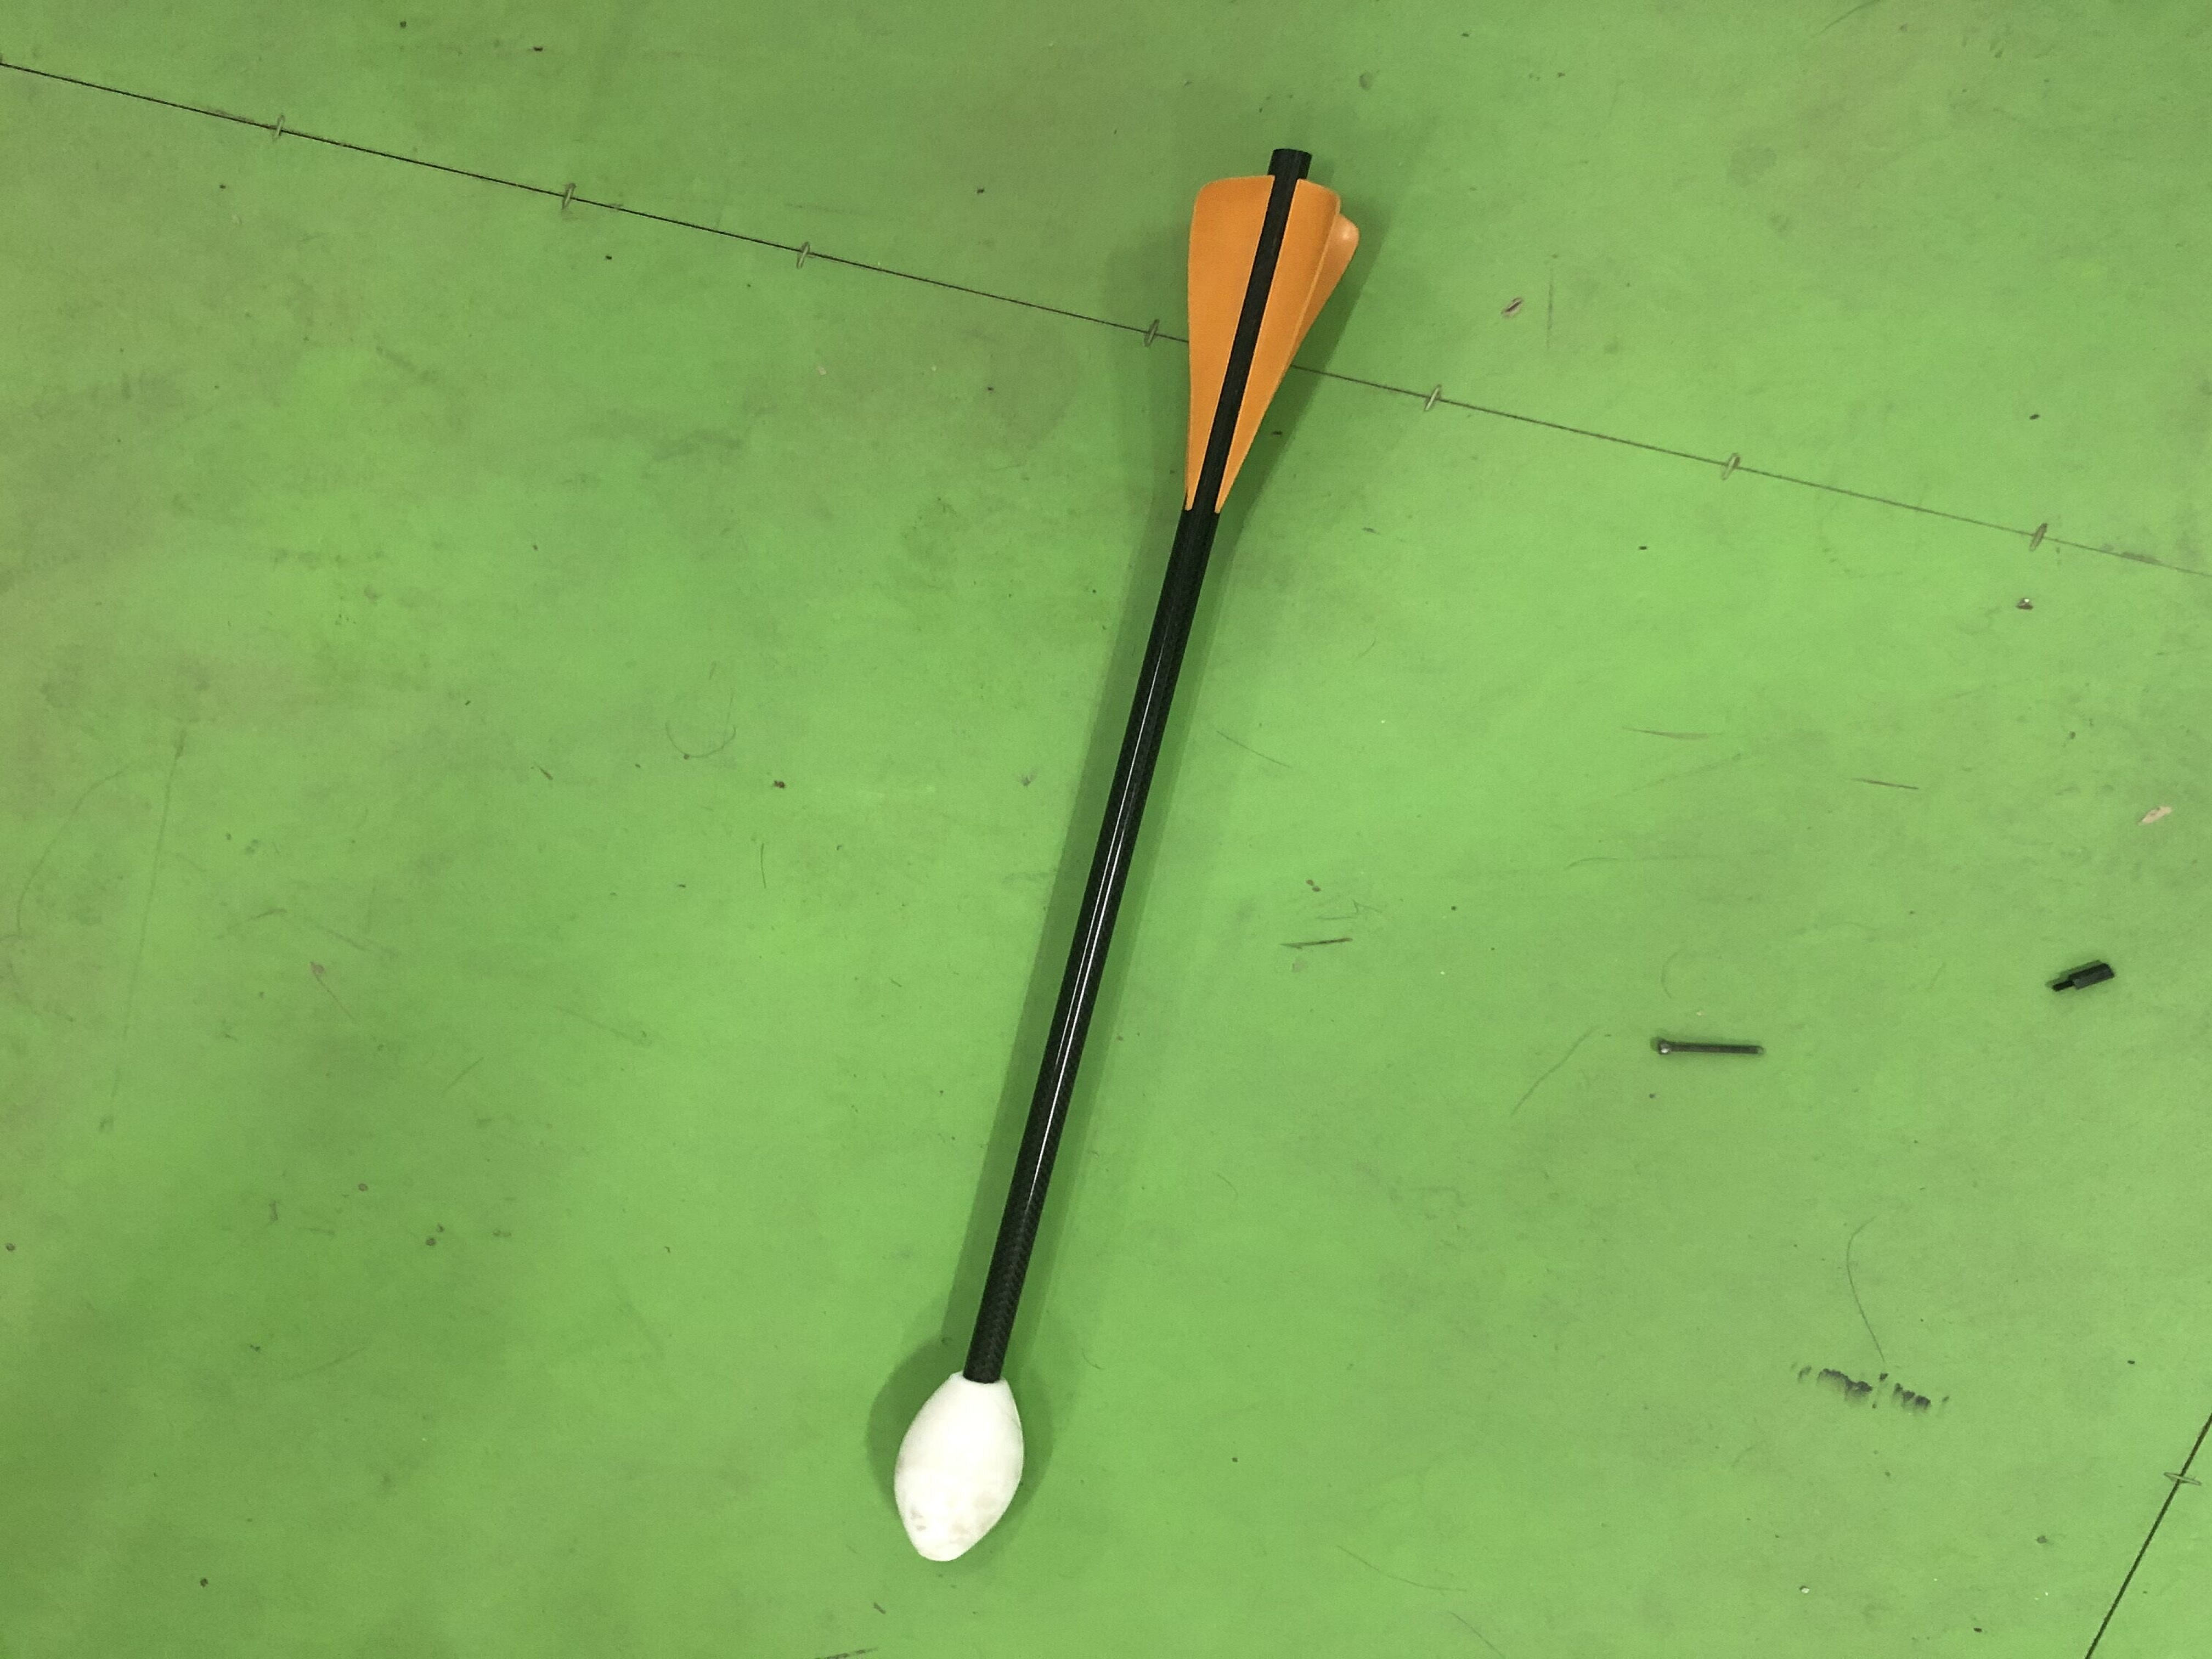arrow: (890, 141, 1369, 1570)
arrowFront: (892, 1358, 1031, 1567)
